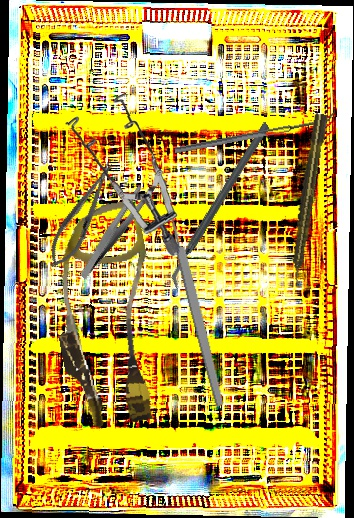Cannula: (35, 198, 178, 434)
Chopper: (125, 119, 316, 292)
Dressing Forceps: (60, 179, 172, 280)
Handpiece: (286, 112, 330, 286)
Needle Holder: (40, 156, 124, 275)
Spatula Surgical: (173, 110, 337, 154)
Speculum: (55, 89, 192, 257)
Surgical Spoon: (157, 177, 226, 408)
